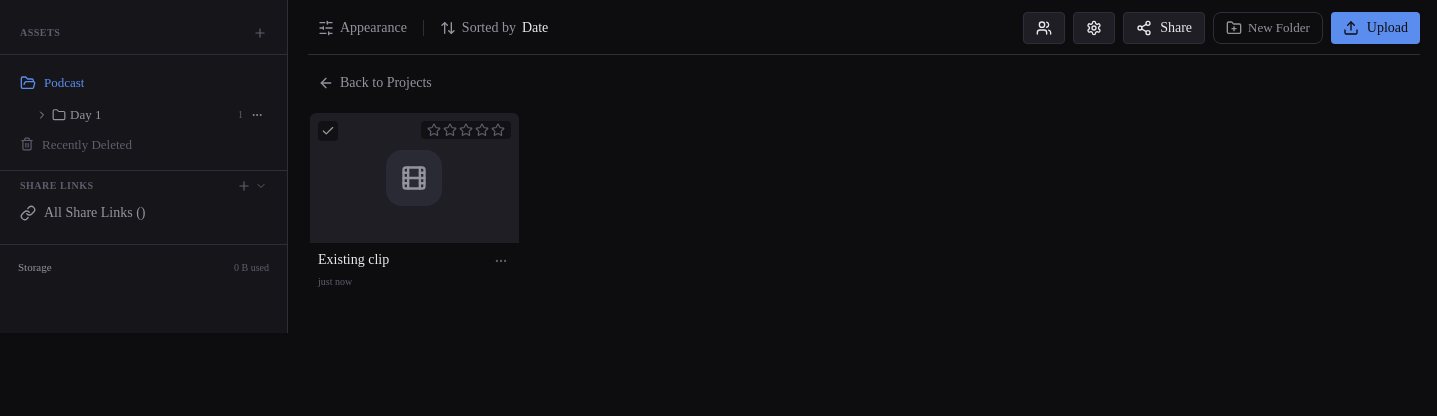
Test: §232 — the project/folder view renders no right panel › no panel after a card has been SELECTED with its checkbox
Click the button named "Select Existing clip": (328, 131) [318,121,338,141]
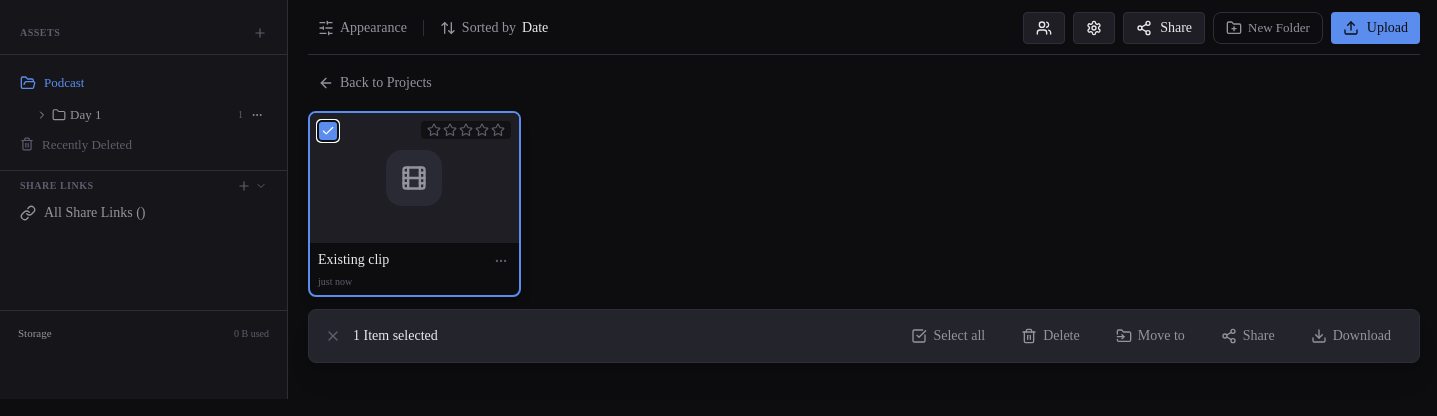
Result: the text "1 Item selected" is shown at [353,326,438,346]
